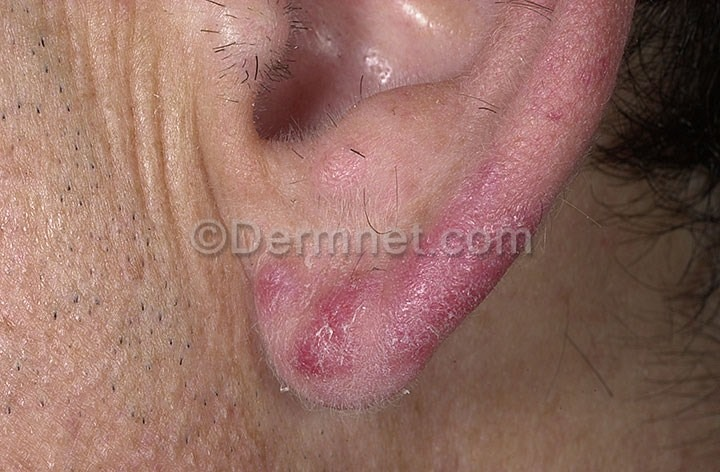Melasma: (367, 0, 720, 110)
